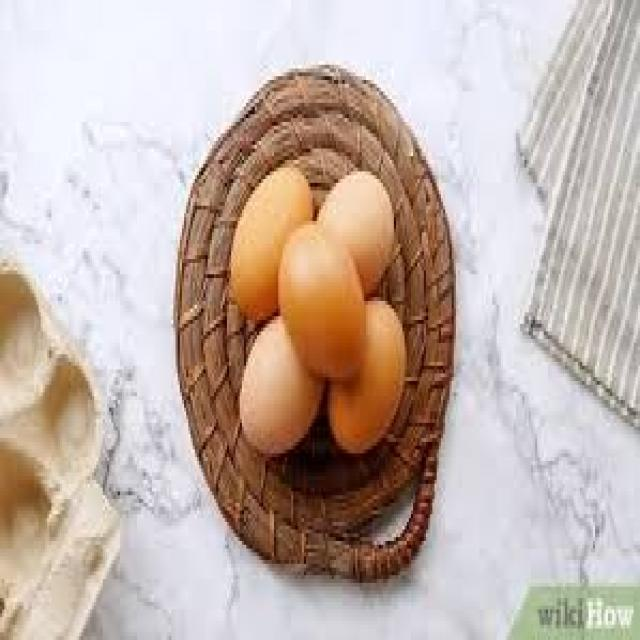egg: (278, 221, 366, 381)
